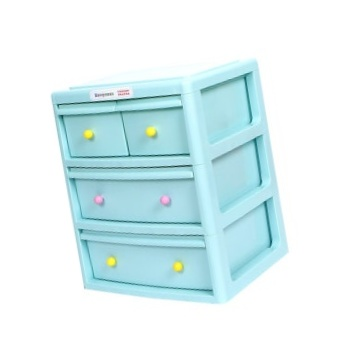plastic: (67, 53, 271, 297)
